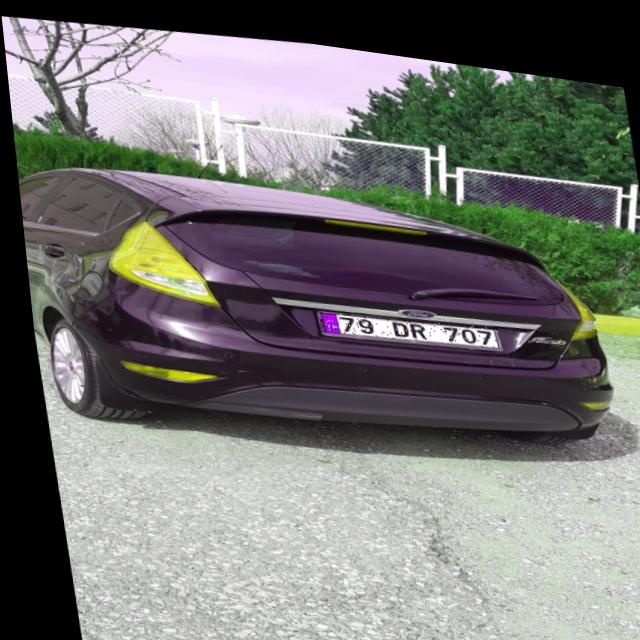plate: (312, 295, 495, 344)
